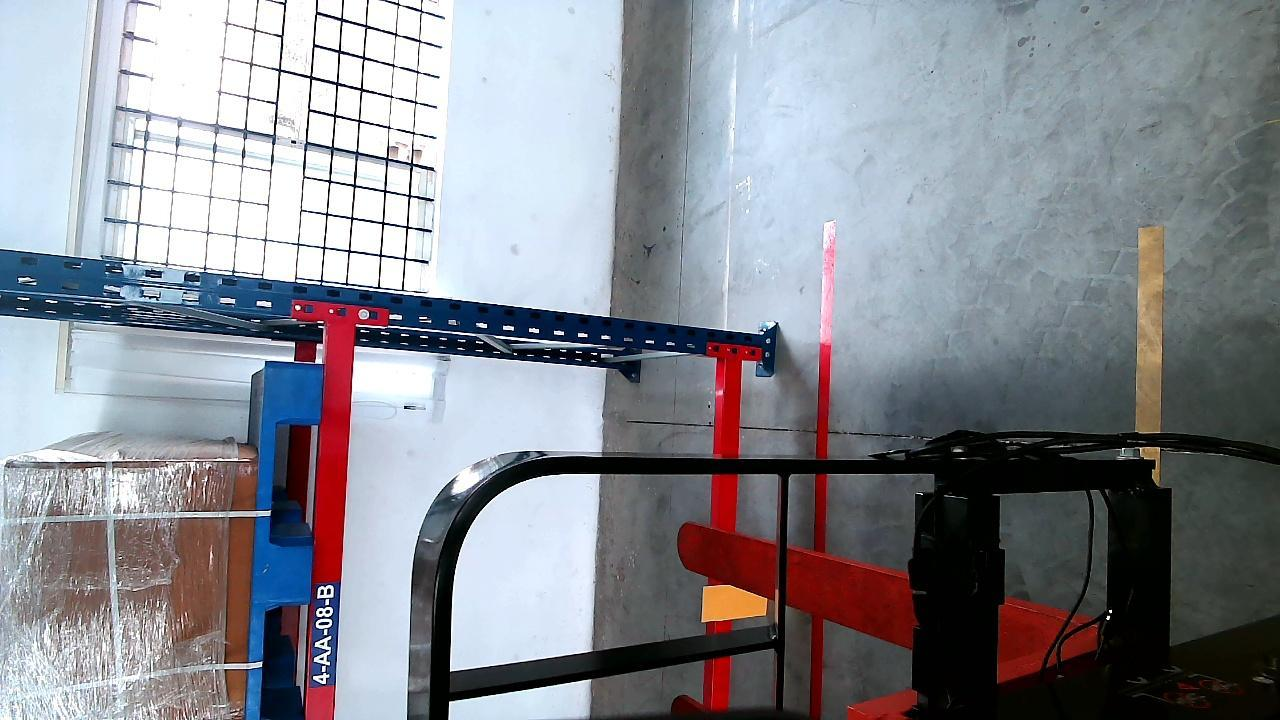red_line: (816, 223, 836, 477)
yellow_line: (1138, 221, 1163, 450)
